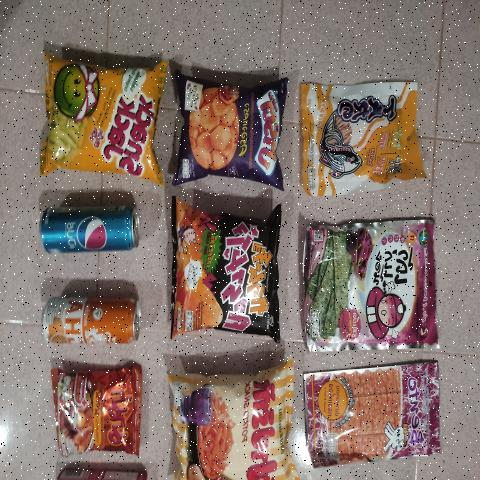bento_red: (304, 356, 440, 472)
karamujo: (174, 218, 277, 331)
mama: (54, 360, 136, 458)
paprika: (174, 367, 294, 477)
party_purple: (179, 77, 285, 177)
pepsi_blue: (38, 195, 141, 255)
singha_yellow: (40, 292, 139, 348)
snack_jack: (46, 58, 154, 184)
taokaenoi: (304, 222, 434, 350)
taro_yellow: (303, 80, 420, 193)
